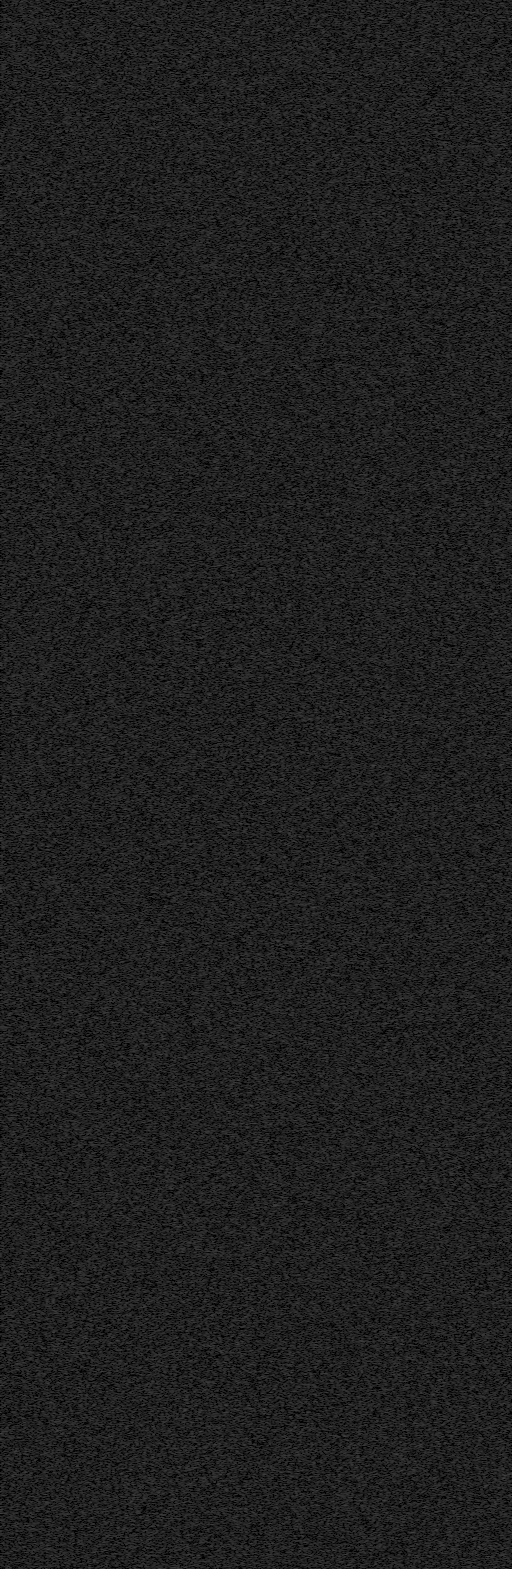wv_am: (46, 0, 51, 1568), (447, 0, 452, 1568)
wv_cw: (378, 0, 384, 1568)
wv_lsb: (22, 222, 27, 630), (22, 7, 27, 221), (22, 1343, 27, 1450), (22, 1039, 28, 1104), (22, 631, 27, 706), (22, 1144, 27, 1209), (23, 1495, 27, 1568), (22, 1105, 27, 1143), (22, 1251, 27, 1288), (22, 707, 27, 744), (22, 1451, 27, 1487), (23, 906, 27, 943), (23, 859, 27, 896), (23, 821, 27, 858), (23, 745, 27, 782), (23, 783, 27, 820), (23, 1289, 27, 1323), (23, 1324, 27, 1342), (23, 963, 27, 981), (23, 944, 27, 962), (23, 1021, 27, 1038), (23, 1002, 27, 1019), (23, 983, 27, 1000), (23, 1232, 27, 1247), (23, 1210, 27, 1221), (23, 897, 27, 905), (23, 1488, 27, 1494), (23, 1222, 27, 1228)
wv_usb: (369, 916, 375, 1568), (369, 6, 375, 379), (370, 511, 375, 756), (369, 787, 375, 915), (370, 380, 375, 510), (251, 1407, 255, 1551), (370, 757, 375, 786), (250, 501, 255, 527), (251, 1191, 255, 1221), (251, 1239, 255, 1266), (251, 1365, 255, 1389), (251, 110, 255, 133), (251, 608, 255, 627), (250, 480, 255, 495), (251, 934, 254, 959), (251, 581, 255, 599), (251, 538, 255, 556), (251, 1284, 255, 1301), (251, 94, 255, 109), (251, 628, 255, 643), (251, 69, 255, 83), (251, 559, 255, 572), (251, 903, 254, 920), (251, 1222, 254, 1238), (251, 1315, 255, 1326), (251, 43, 254, 56), (251, 921, 254, 933), (251, 886, 254, 897), (251, 1272, 254, 1282), (251, 278, 255, 285), (251, 313, 254, 322), (251, 1343, 254, 1352), (251, 293, 254, 302), (251, 189, 254, 198), (251, 142, 254, 151), (251, 1394, 254, 1403), (251, 528, 254, 537), (251, 271, 255, 277), (251, 166, 254, 174), (251, 159, 255, 165), (251, 1159, 254, 1167), (251, 1095, 254, 1103), (251, 1086, 254, 1094), (251, 1059, 254, 1067), (251, 961, 254, 969), (251, 862, 254, 870), (251, 822, 254, 830), (251, 718, 254, 726), (251, 691, 254, 699), (251, 682, 254, 690), (251, 664, 254, 672), (251, 263, 254, 270), (251, 1078, 254, 1085), (251, 988, 254, 995), (251, 600, 254, 607), (251, 573, 254, 580), (250, 496, 255, 500), (251, 1353, 254, 1359), (251, 673, 254, 679), (251, 655, 254, 661), (251, 646, 254, 652), (251, 250, 254, 255), (251, 219, 254, 224), (251, 136, 254, 141), (251, 88, 254, 93), (251, 63, 254, 68), (251, 1307, 254, 1312), (251, 1050, 254, 1055), (251, 979, 254, 984), (251, 880, 254, 885), (251, 789, 254, 794), (251, 753, 254, 758), (251, 384, 254, 388), (251, 348, 254, 352), (251, 343, 254, 347), (251, 323, 254, 327), (251, 287, 254, 291), (251, 257, 254, 261), (251, 243, 254, 247), (251, 233, 254, 237), (251, 1330, 254, 1334), (251, 227, 254, 231), (251, 1302, 254, 1306), (251, 1267, 254, 1271), (251, 1177, 254, 1181), (251, 1168, 254, 1172), (251, 1150, 254, 1154), (251, 1141, 254, 1145), (251, 1123, 254, 1127), (251, 1114, 254, 1118), (251, 1104, 254, 1108), (251, 1073, 254, 1077), (251, 1042, 254, 1046), (251, 1024, 254, 1028), (251, 1015, 254, 1019), (251, 1006, 254, 1010), (251, 970, 254, 974), (251, 898, 254, 902), (251, 871, 254, 875), (251, 853, 254, 857), (251, 844, 254, 848), (251, 831, 254, 835), (251, 817, 254, 821), (251, 777, 254, 781), (251, 763, 254, 767), (251, 745, 254, 749), (251, 727, 254, 731), (251, 700, 254, 704), (251, 359, 254, 362), (251, 354, 254, 357), (251, 329, 254, 332), (251, 303, 254, 306), (251, 185, 254, 188), (251, 175, 254, 178), (251, 155, 254, 158), (251, 84, 254, 87), (251, 1187, 254, 1190), (251, 1173, 254, 1176), (251, 1132, 254, 1135), (251, 1110, 254, 1113), (251, 1069, 254, 1072), (251, 1038, 254, 1041), (251, 1033, 254, 1036), (251, 1002, 254, 1005), (251, 997, 254, 1000), (251, 858, 254, 861), (251, 808, 254, 811), (251, 804, 254, 807), (251, 795, 254, 798), (251, 772, 254, 775), (251, 768, 254, 771), (251, 759, 254, 762), (251, 741, 254, 744), (251, 736, 254, 739), (251, 732, 254, 735), (251, 709, 254, 712)
